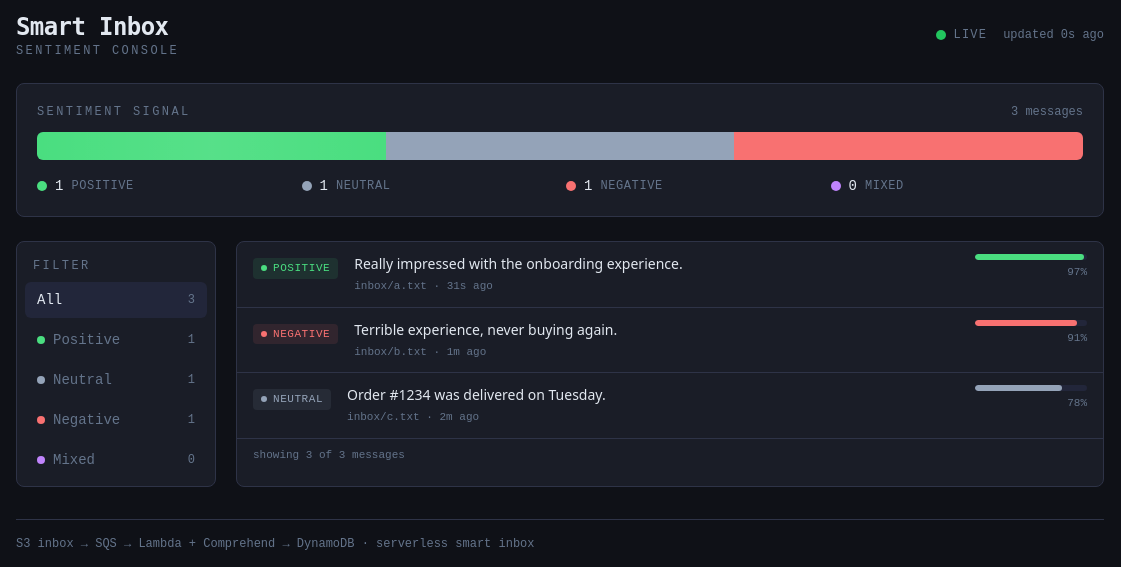
Test: Dashboard › stream footer reflects filtered count vs total
Click the button "Positive 1" at [116, 340], box left=25, top=322, right=207, bottom=358
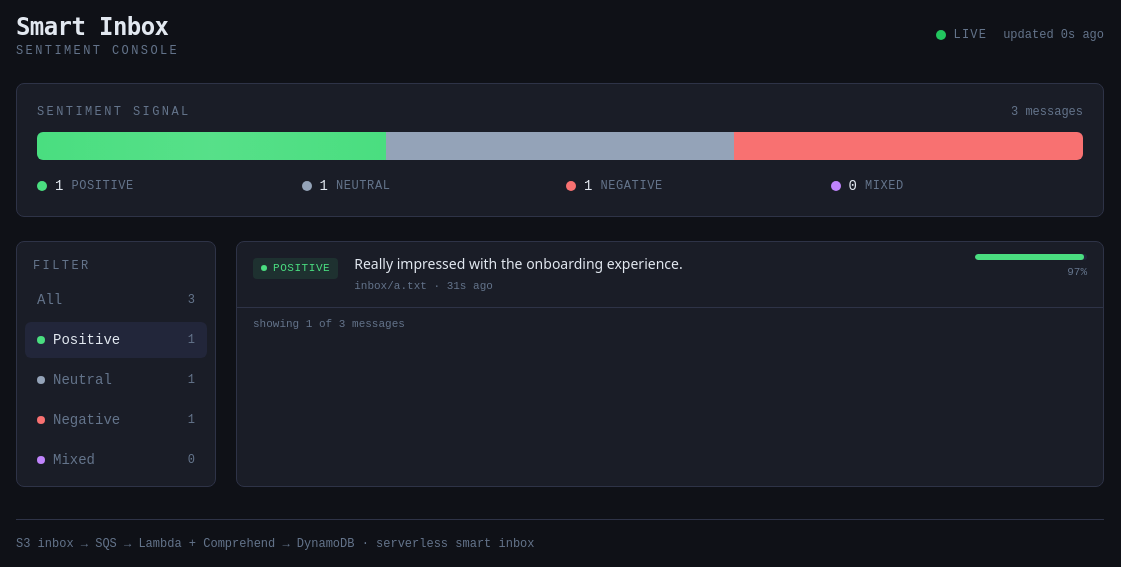
Check: the text "showing 1 of 3 messages" is shown, box left=237, top=306, right=1103, bottom=340
